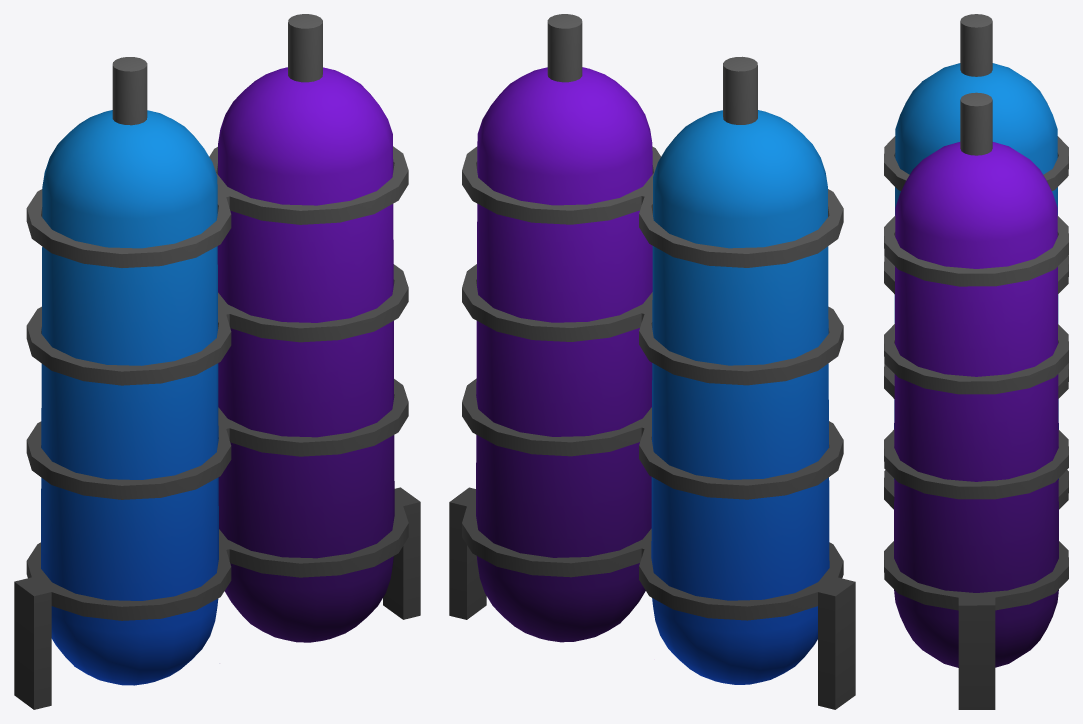
File: Soda Tanks.fbx
3 views of the same model, side by side, from view 1: azimuth 30°, elevation 25°; view 2: azimuth 150°, elevation 25°; view 3: azimuth 270°, elevation 25° (orthographic). The views are drawn at different scales.
Visible parts, largest first — view 1: Left Tank, Right Tank, Soda Tank Stander; view 2: Left Tank, Right Tank, Soda Tank Stander; view 3: Right Tank, Soda Tank Stander, Left Tank.
Part boxes in pixels (x1,y1,x2,y2): Left Tank: [41, 110, 218, 685]; Right Tank: [217, 67, 394, 642]; Soda Tank Stander: [14, 14, 420, 709]; Left Tank: [651, 110, 829, 684]; Right Tank: [476, 67, 652, 642]; Soda Tank Stander: [449, 14, 855, 709]; Right Tank: [894, 142, 1058, 667]; Soda Tank Stander: [884, 14, 1068, 709]; Left Tank: [894, 63, 1058, 479].
Bounding box in the file's own units: 100 × 154 × 45.28.
